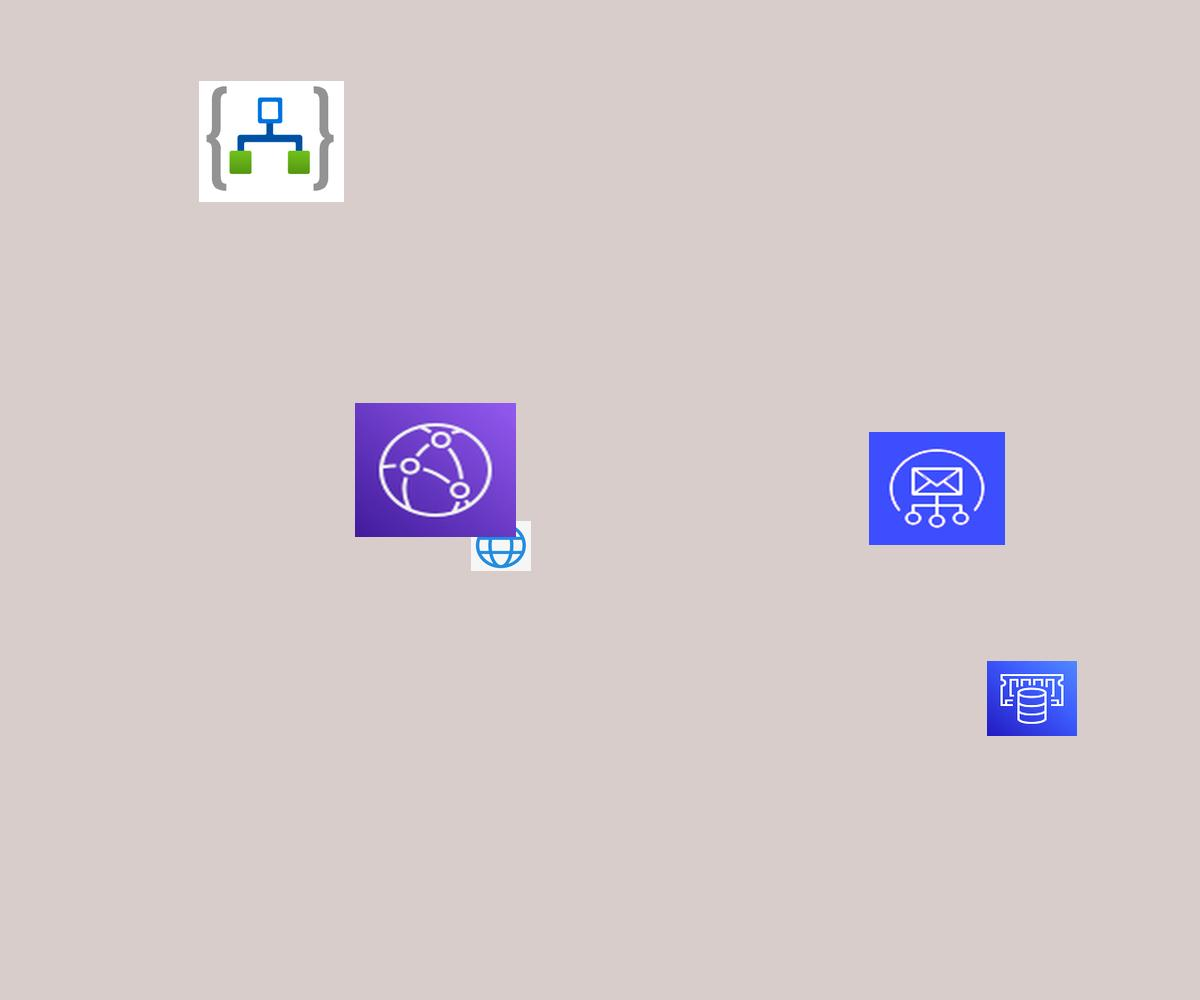AWS-CloudFront: (355, 403, 516, 537)
AWS-ElastiCache: (987, 661, 1077, 736)
AWS-Simple-Email-Service: (869, 432, 1005, 545)
Azure_http: (471, 521, 531, 571)
Azure_integration-204-Logic-Apps: (199, 81, 344, 202)
